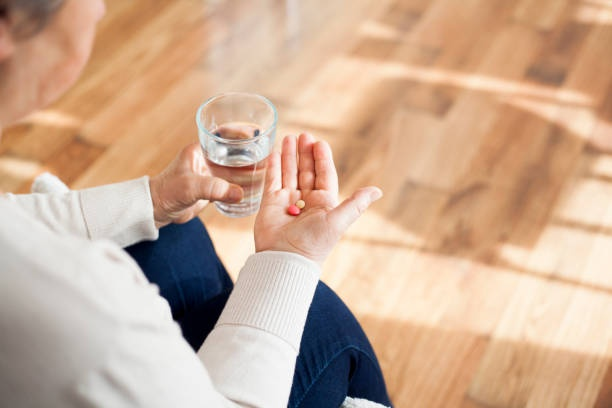pills: (286, 194, 306, 219)
